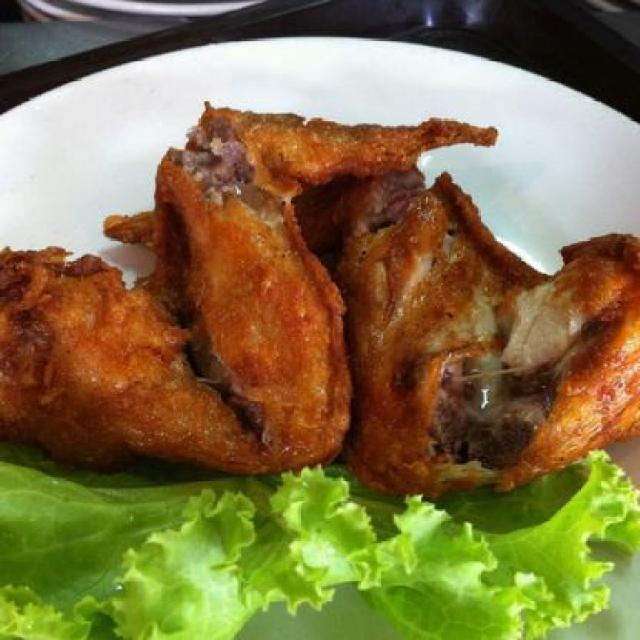Deep fried chicken wing: (7, 92, 638, 486)
